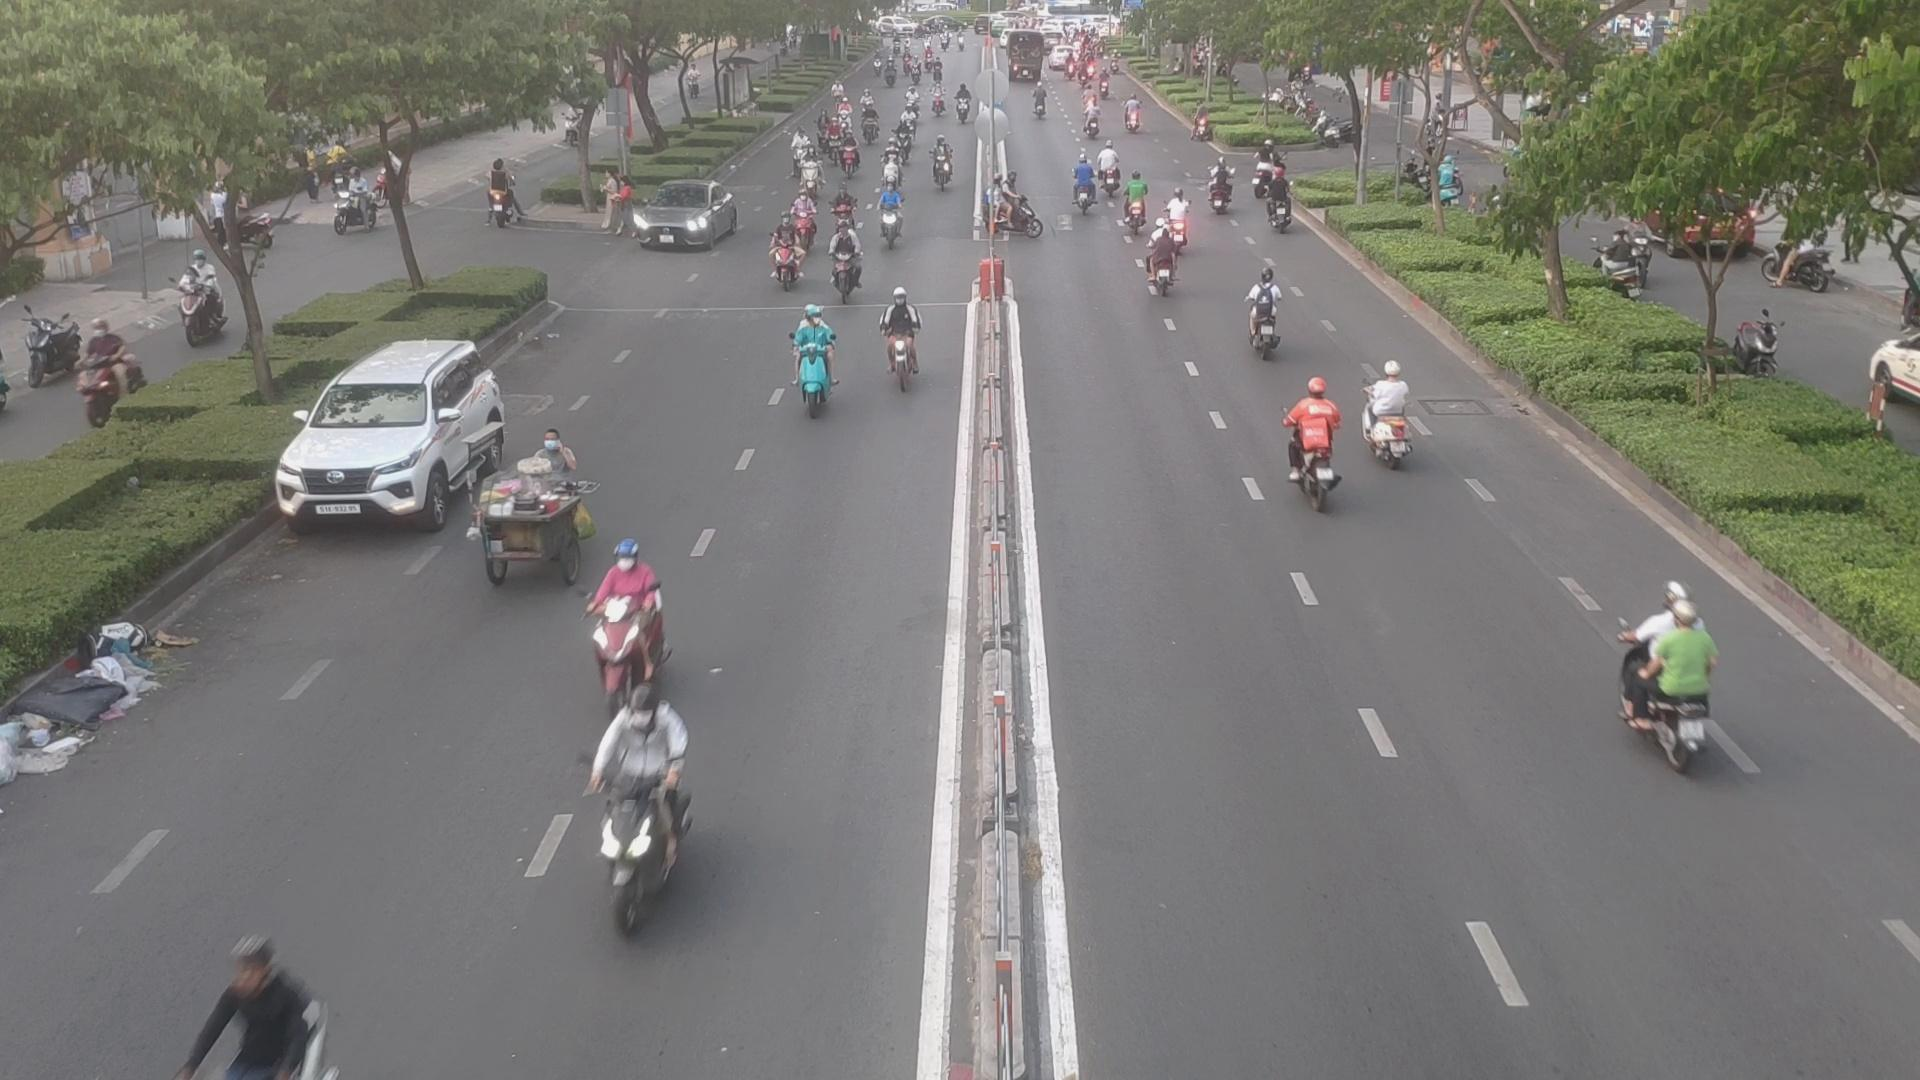car: (277, 347, 520, 538), (615, 189, 756, 253)
motorbike: (593, 676, 683, 959), (1605, 588, 1735, 781), (582, 549, 676, 705), (1273, 381, 1348, 506), (1358, 369, 1431, 475), (785, 318, 849, 418), (873, 301, 926, 400), (1241, 284, 1292, 363), (761, 223, 804, 289), (827, 232, 866, 294), (868, 194, 907, 253), (1145, 243, 1183, 302), (782, 199, 824, 251), (1065, 164, 1104, 219), (1158, 200, 1196, 255), (1121, 178, 1155, 233), (1203, 171, 1234, 218), (930, 149, 957, 194), (837, 138, 862, 175)
